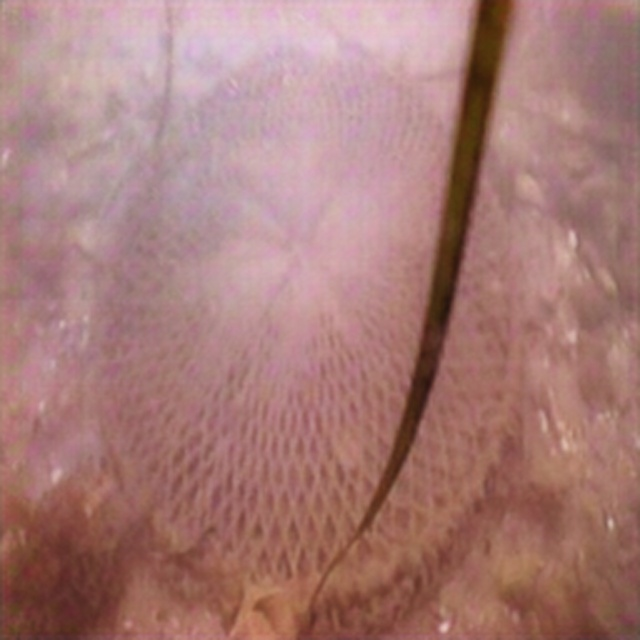mine: (95, 44, 521, 640)
